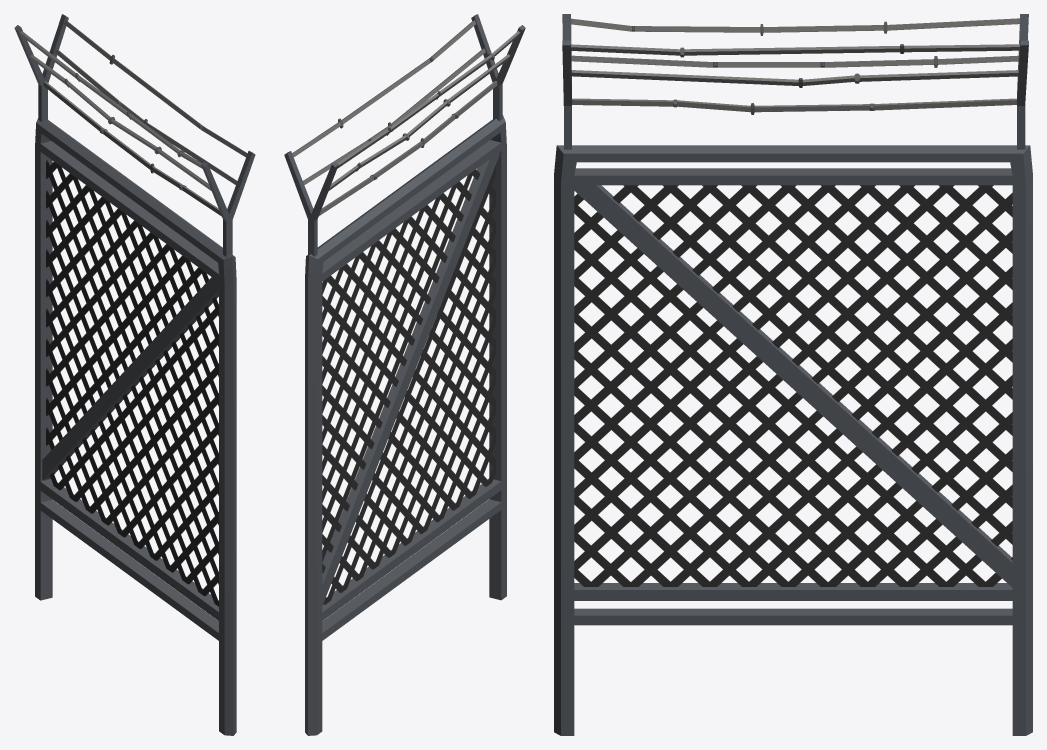
File: fence.glb
3 views of the same model, side by side, from view 1: azimuth 30°, elevation 25°; view 2: azimuth 150°, elevation 25°; view 3: azimuth 270°, elevation 25° (orthographic). The views are drawn at different scales.
Parts seen in each view (by area): view 1: SM_Prop_WireFence_01__39_, SM_Prop_WireFence_01_Wires_63; view 2: SM_Prop_WireFence_01__39_, SM_Prop_WireFence_01_Wires_63; view 3: SM_Prop_WireFence_01_Wires_63, SM_Prop_WireFence_01__39_.
Part boxes in pixels (x1,y1,x2,y2): SM_Prop_WireFence_01__39_: (14,14,255,735); SM_Prop_WireFence_01_Wires_63: (46,160,218,606); SM_Prop_WireFence_01__39_: (284,14,525,735); SM_Prop_WireFence_01_Wires_63: (322,165,495,604); SM_Prop_WireFence_01_Wires_63: (574,185,1012,586); SM_Prop_WireFence_01__39_: (554,14,1032,735).
Size of the model in its own units: 0.3051 by 3.29 by 2.02.
Materials: 2 (2 with a texture image).
